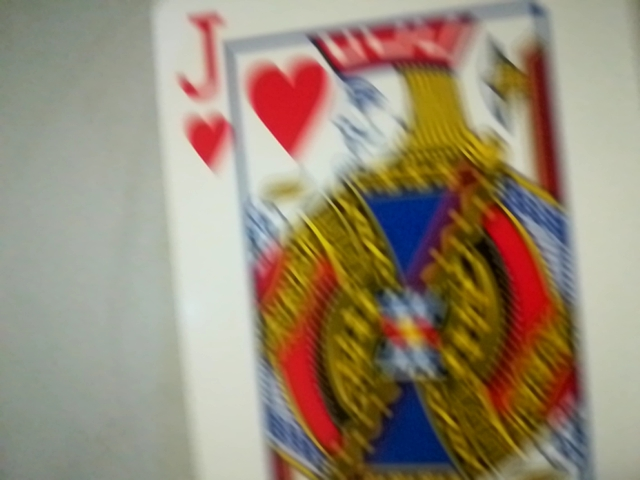hx j: (158, 0, 240, 174)
